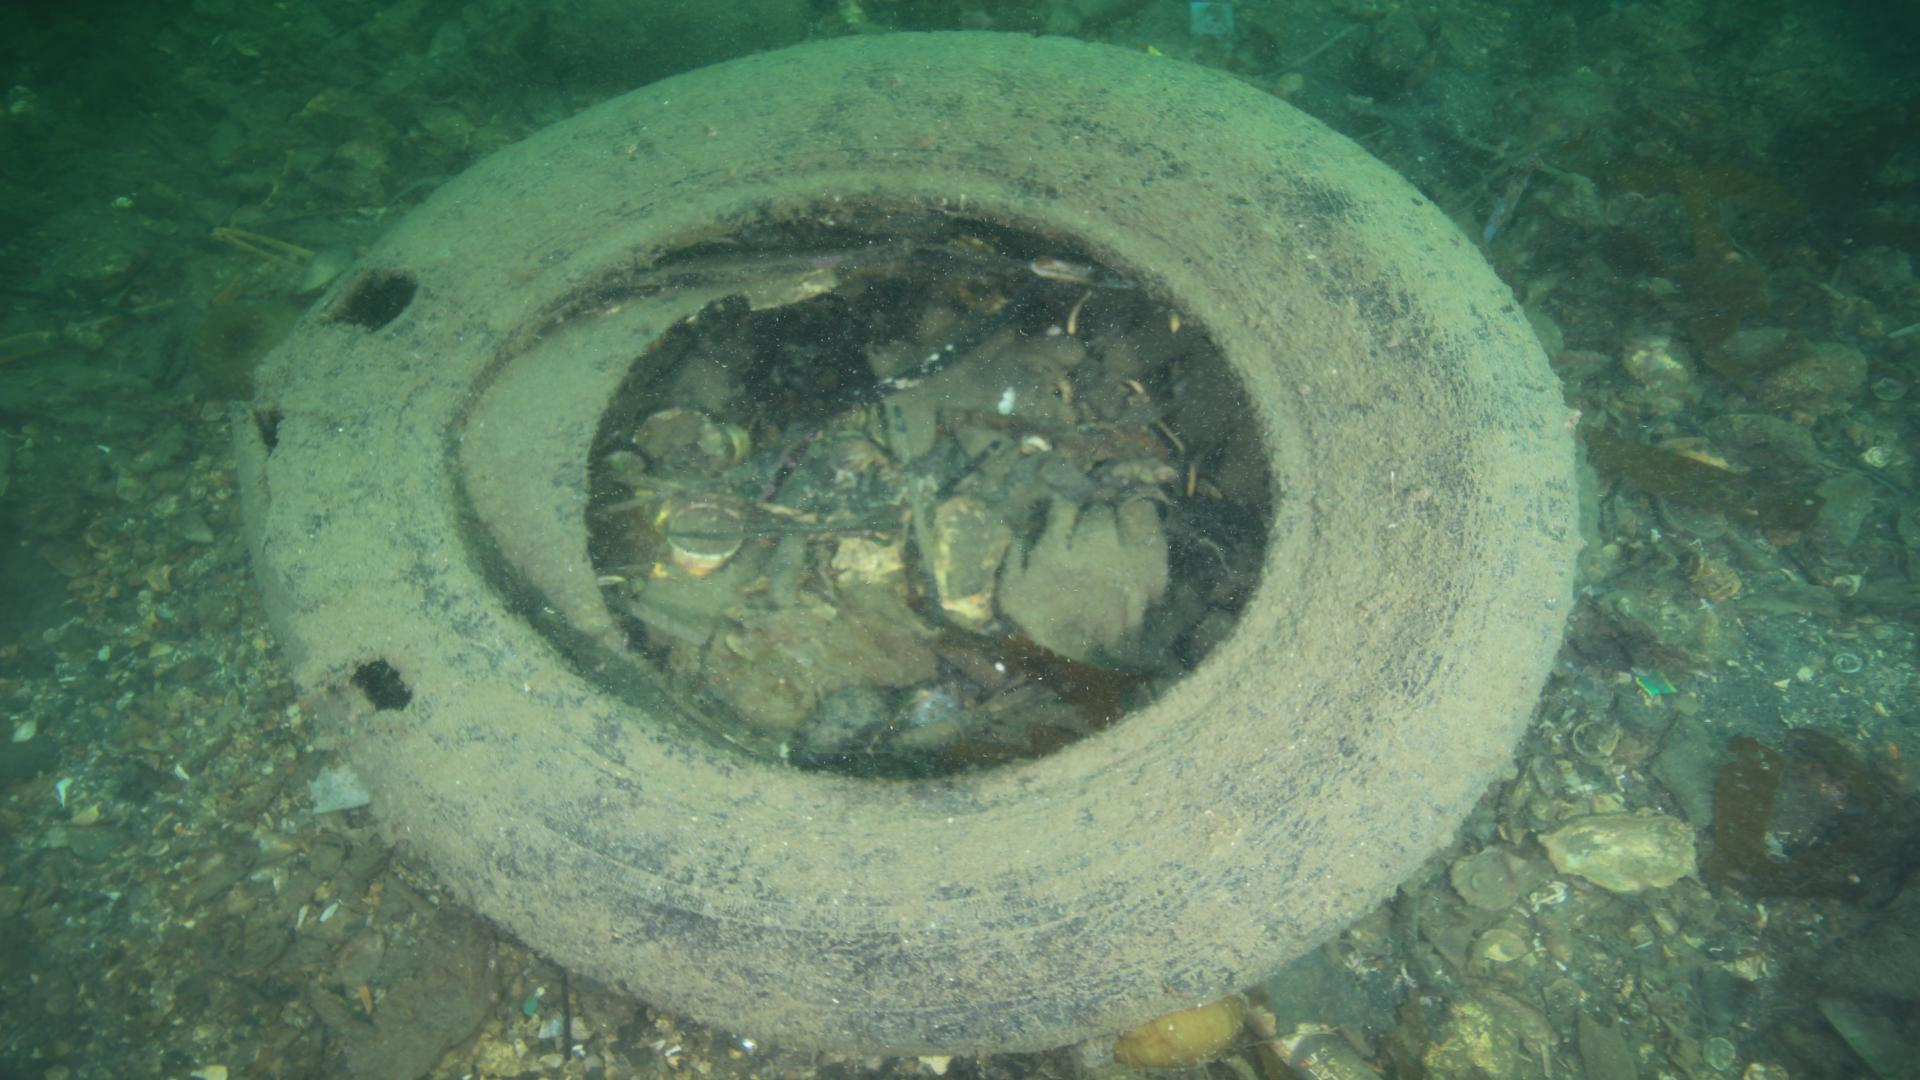tire: (228, 28, 1586, 1062)
